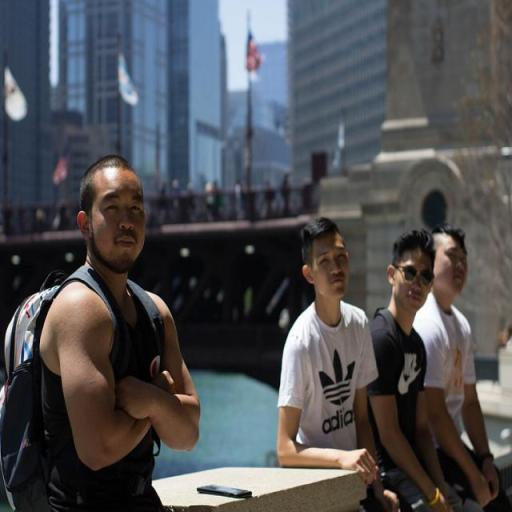Adidas: (316, 349, 358, 434)
